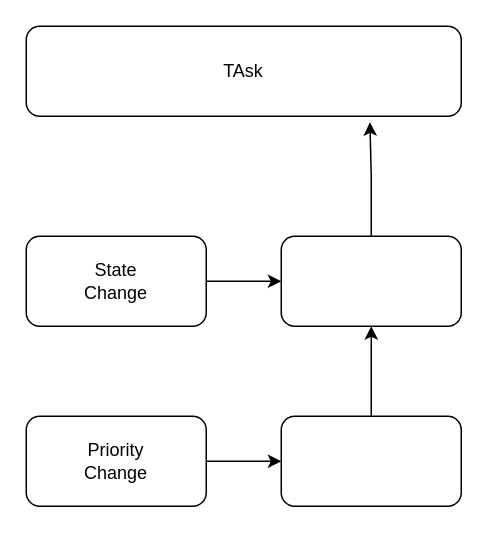
The diagram is 488 pixels wide and 533 high, and some of its shapes have lost their labels. The centre of each missing label's shape, as x and y in pixels:
Priority: (370,460)
State: (370,280)
